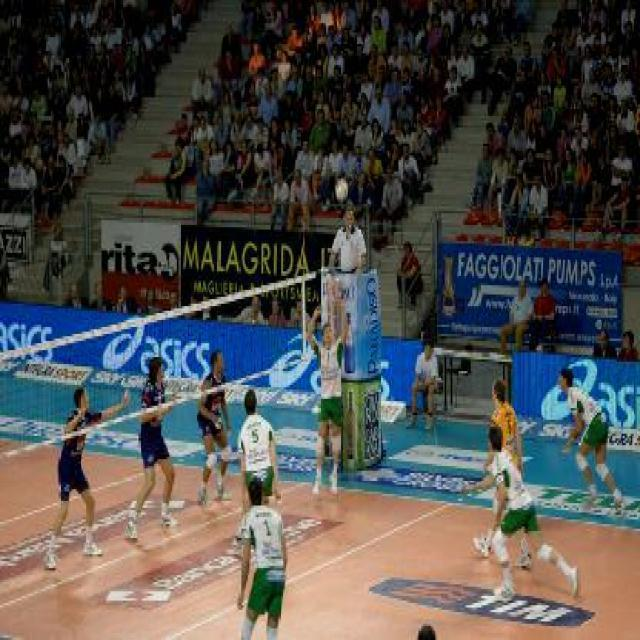volleyball: (335, 180, 348, 202)
